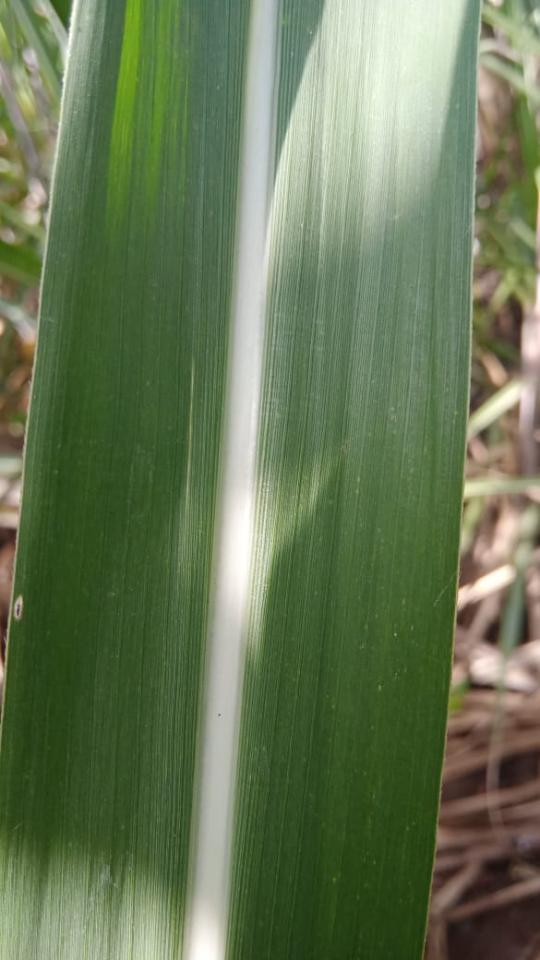Healthy: (0, 0, 479, 959)
